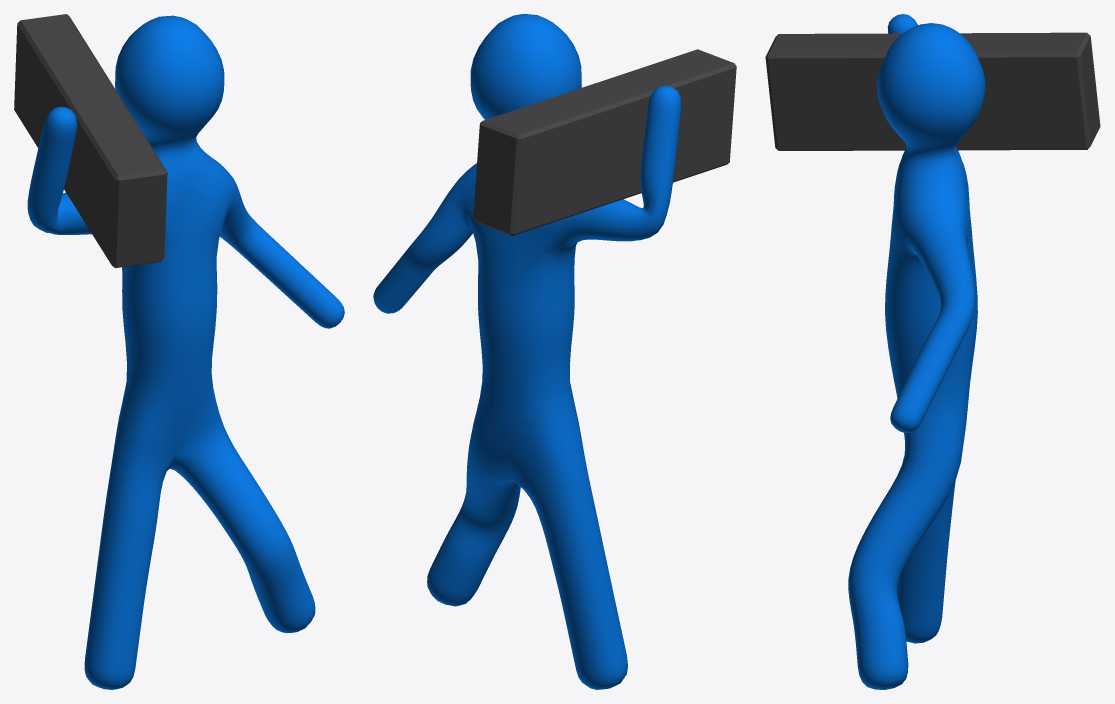
Rendered from Player.dae.
3 views of the same model, side by side, from view 1: azimuth 30°, elevation 25°; view 2: azimuth 150°, elevation 25°; view 3: azimuth 270°, elevation 25° (orthographic).
Parts seen in each view (by area): view 1: Character, Boombox; view 2: Character, Boombox; view 3: Character, Boombox.
Part boxes in pixels (x1,y1,x2,y2): Character: (27, 15, 344, 689); Boombox: (14, 14, 167, 268); Character: (373, 14, 681, 689); Boombox: (473, 49, 736, 235); Character: (848, 14, 985, 689); Boombox: (765, 32, 1100, 150).
Bounding box in the file's own units: 3.52 × 3.41 × 7.26.
